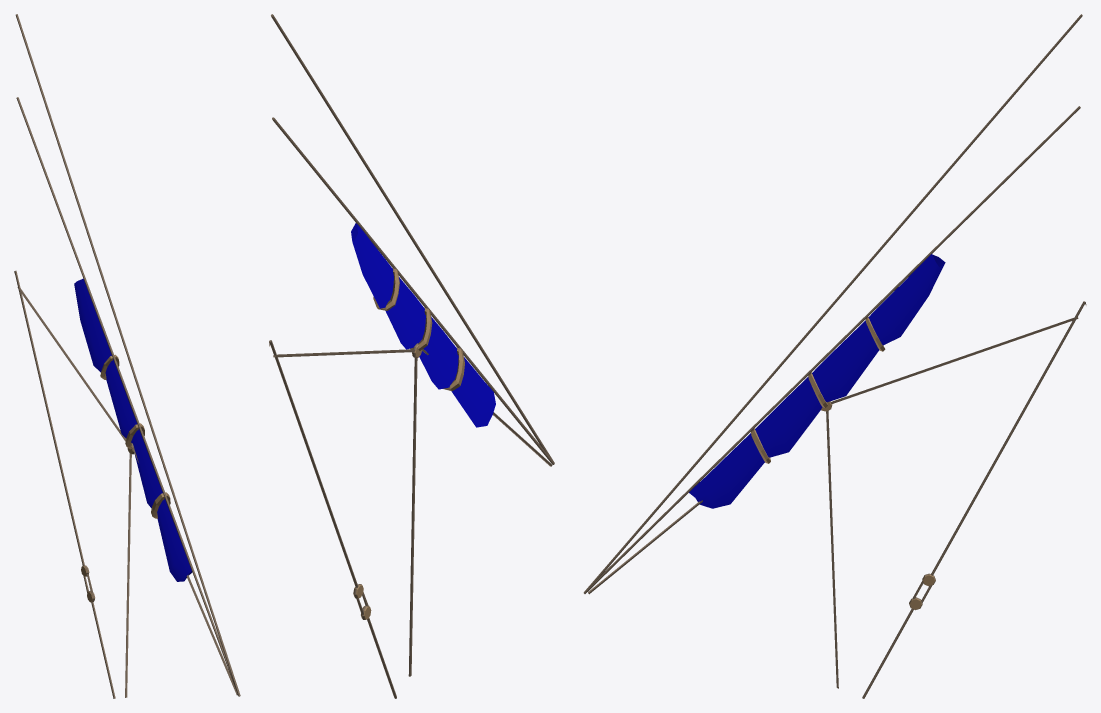
The model's file is SM_Veh_Ship_L_01_Rigging_Front_01_Tied_01.fbx.
3 renders of one model, left to right at view 1: azimuth 30°, elevation 25°; view 2: azimuth 150°, elevation 25°; view 3: azimuth 270°, elevation 25°, orthographic. The views are drawn at different scales.
Parts seen in each view (by area): view 1: SM_Veh_Ship_L_01_Rigging_Front_01_Tied_01; view 2: SM_Veh_Ship_L_01_Rigging_Front_01_Tied_01; view 3: SM_Veh_Ship_L_01_Rigging_Front_01_Tied_01.
Boxes of the visible parts, x1,y1,x2,y2 form: SM_Veh_Ship_L_01_Rigging_Front_01_Tied_01: (14, 14, 240, 698); SM_Veh_Ship_L_01_Rigging_Front_01_Tied_01: (269, 14, 554, 698); SM_Veh_Ship_L_01_Rigging_Front_01_Tied_01: (583, 14, 1086, 698).
Size of the model in its own units: 75.19 by 2543 by 1694.
